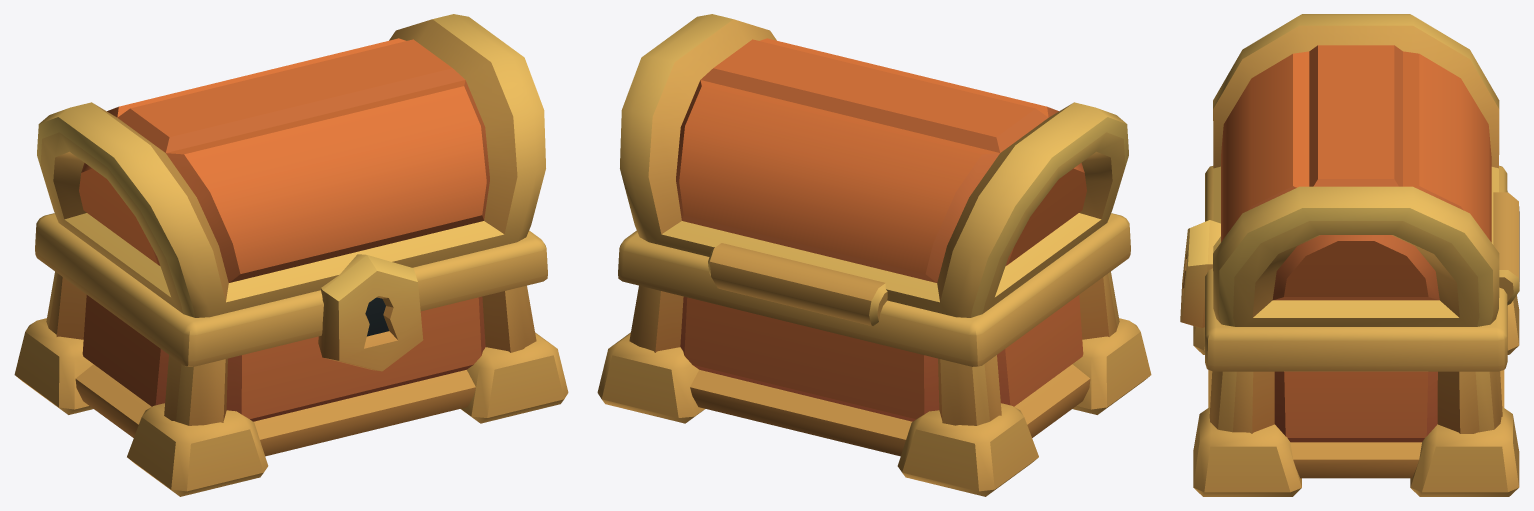
Rendered from gems-chest-empty.glb.
The picture shows the model from 3 angles, left to right: view 1: azimuth 30°, elevation 25°; view 2: azimuth 150°, elevation 25°; view 3: azimuth 270°, elevation 25°; orthographic projection. The views are drawn at different scales.
Parts seen in each view (by area): view 1: Gems_Chest_Empty_Lid, Gems_Chest_Empty; view 2: Gems_Chest_Empty_Lid, Gems_Chest_Empty; view 3: Gems_Chest_Empty_Lid, Gems_Chest_Empty.
Part boxes in pixels (left/top/right/bottom): Gems_Chest_Empty_Lid: left=37, top=14, right=545, bottom=317; Gems_Chest_Empty: left=14, top=213, right=568, bottom=496; Gems_Chest_Empty_Lid: left=620, top=14, right=1128, bottom=326; Gems_Chest_Empty: left=597, top=213, right=1151, bottom=496; Gems_Chest_Empty_Lid: left=1213, top=14, right=1519, bottom=326; Gems_Chest_Empty: left=1180, top=165, right=1519, bottom=496.
Size of the model in its own units: 1.55 by 1.11 by 1.13.
Materials: 1 (1 with a texture image).
